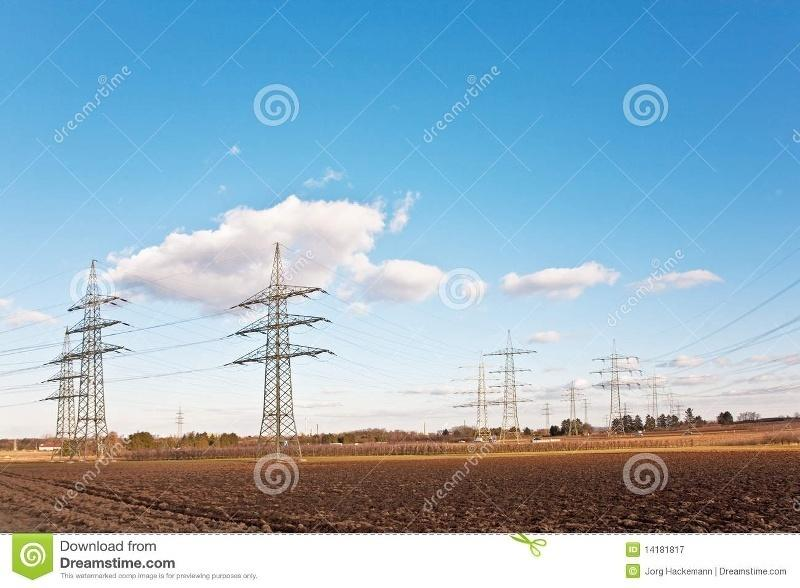power_tower: (214, 254, 324, 463), (67, 265, 127, 441), (495, 338, 541, 433), (593, 339, 636, 423)
